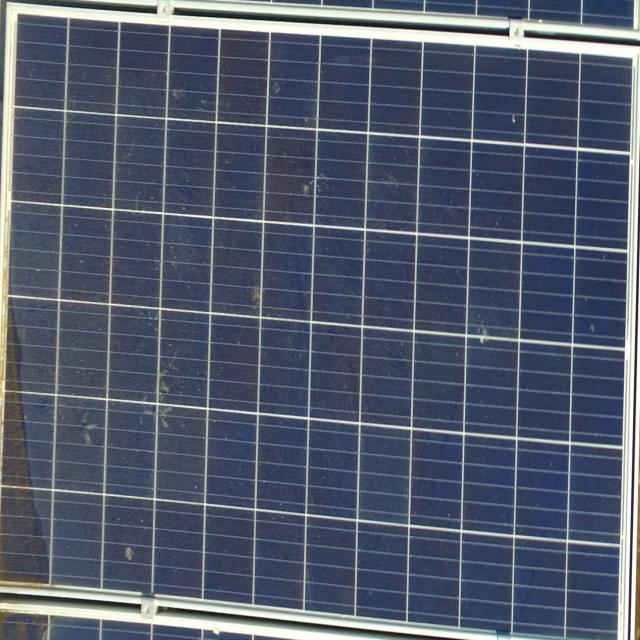Dust: (0, 229, 72, 640)
bird-droppings: (144, 367, 176, 435), (475, 313, 492, 348), (122, 542, 138, 564), (508, 108, 520, 129)
